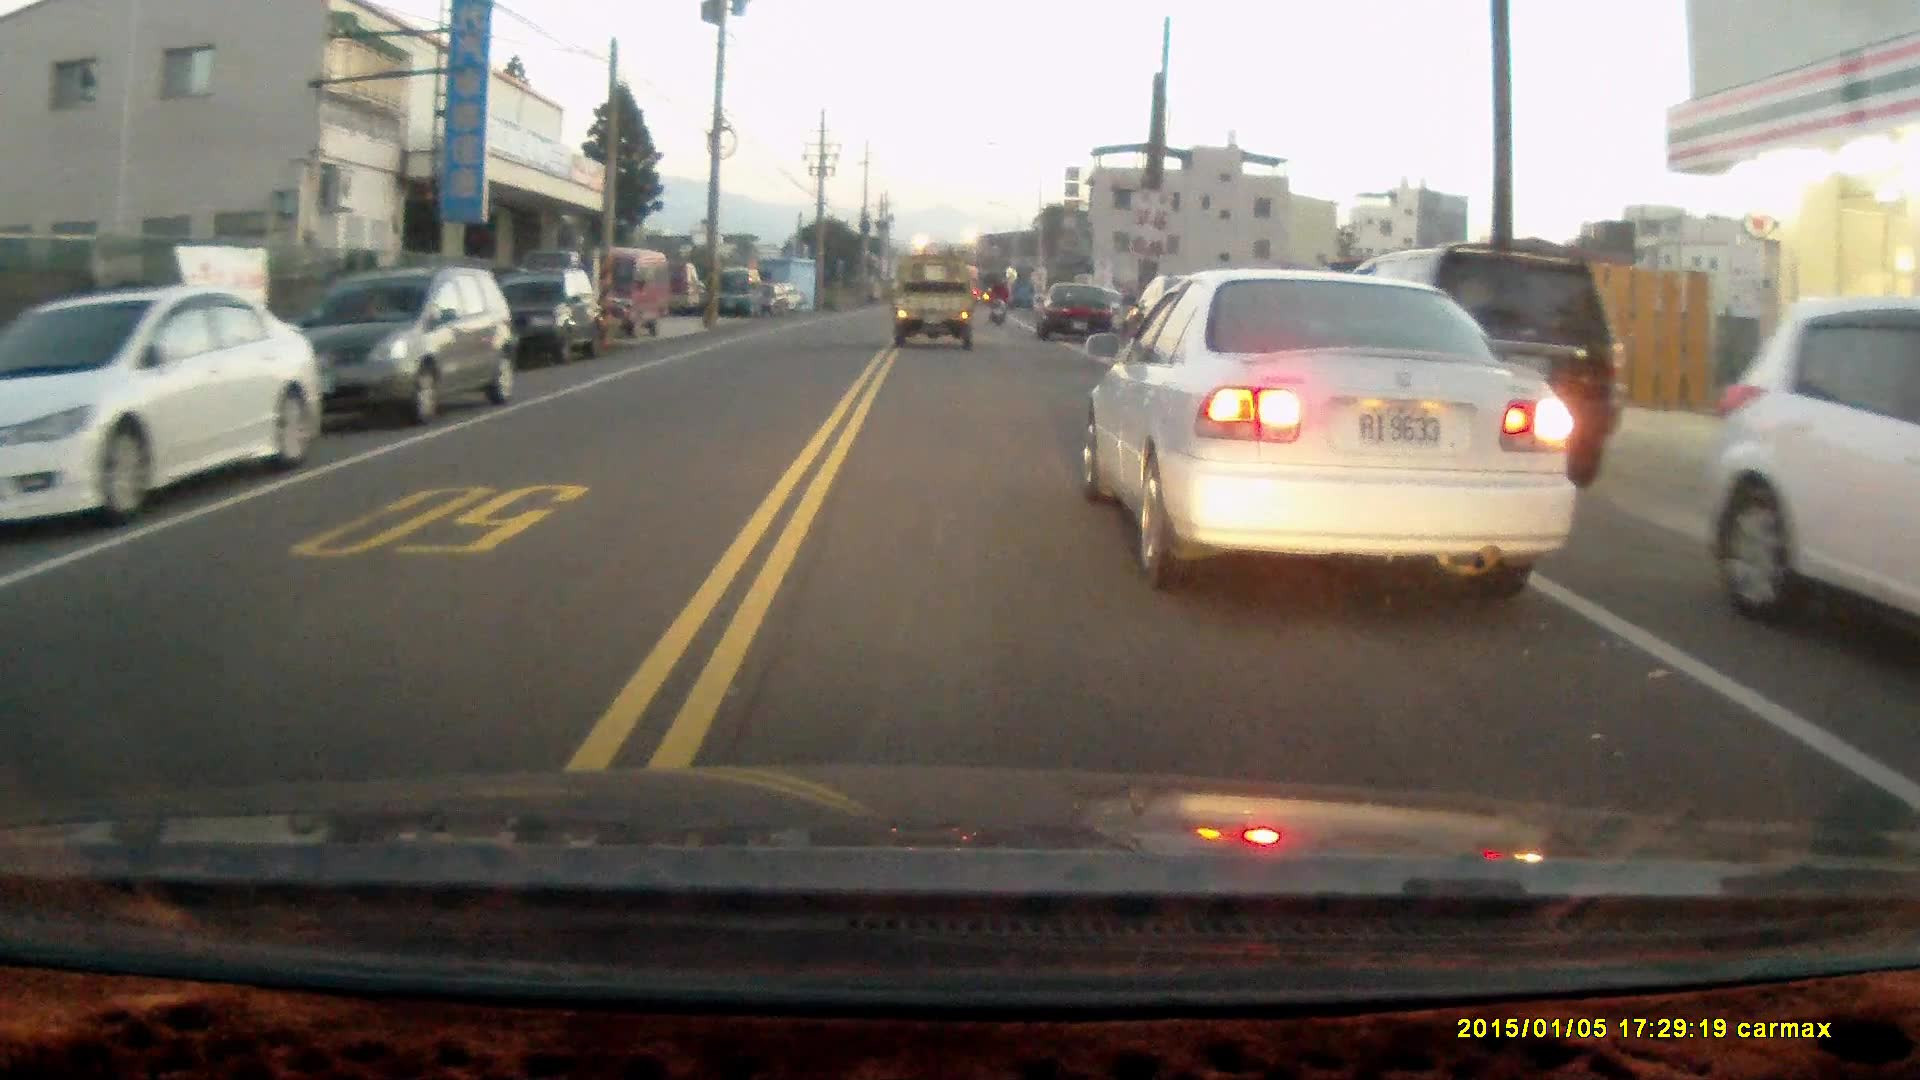rider: (983, 276, 1010, 324)
vehicle: (1076, 269, 1574, 590), (0, 287, 325, 531), (1716, 291, 1920, 639), (1346, 245, 1618, 485), (275, 268, 517, 429), (493, 270, 608, 369), (569, 246, 673, 338), (892, 265, 979, 366), (1041, 284, 1124, 344), (715, 265, 768, 315)
